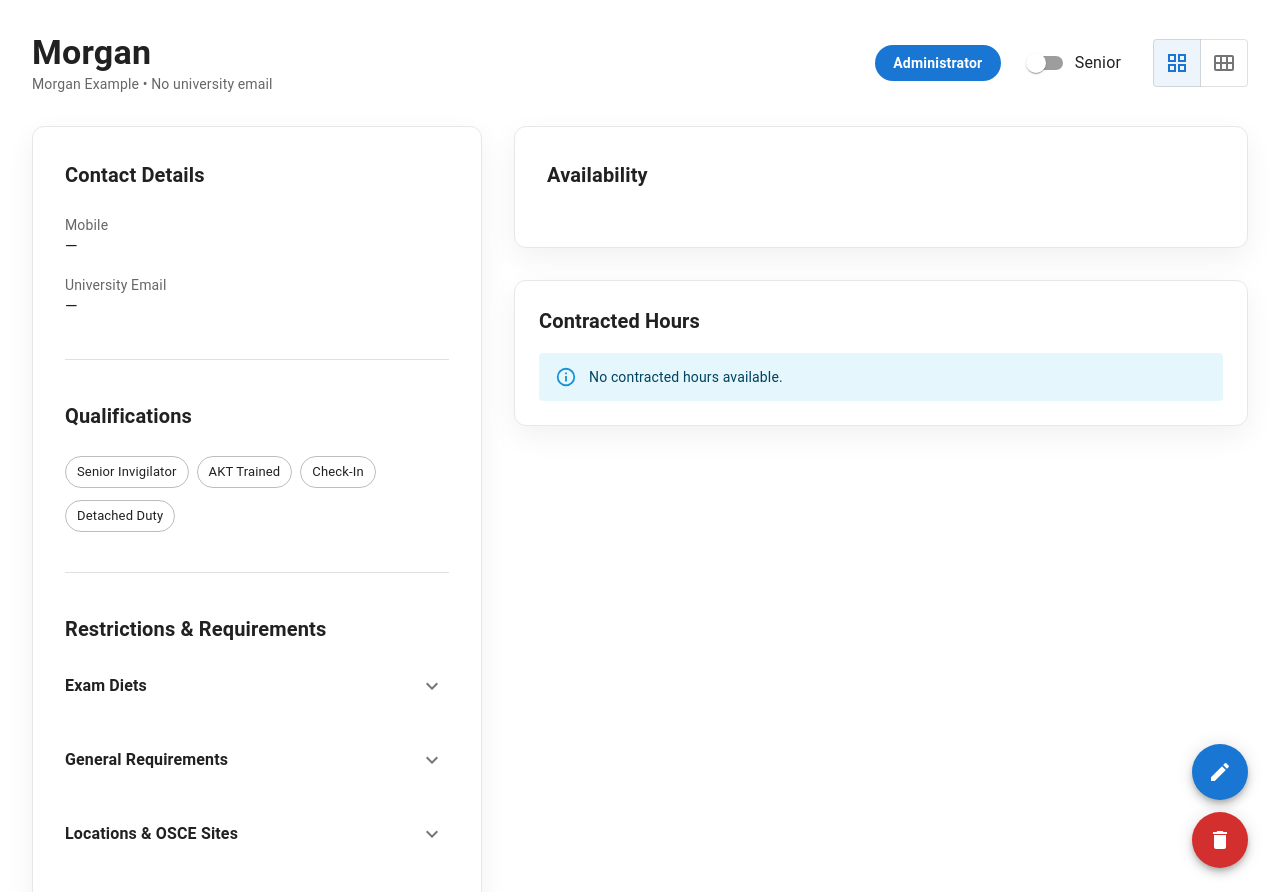
Test: AdminInvigilatorProfile › shows senior admin promotion dialog for senior admins
The image size is (1280, 892).
Click the switch labelled "Senior": click(1073, 63) [1026,53,1121,73]
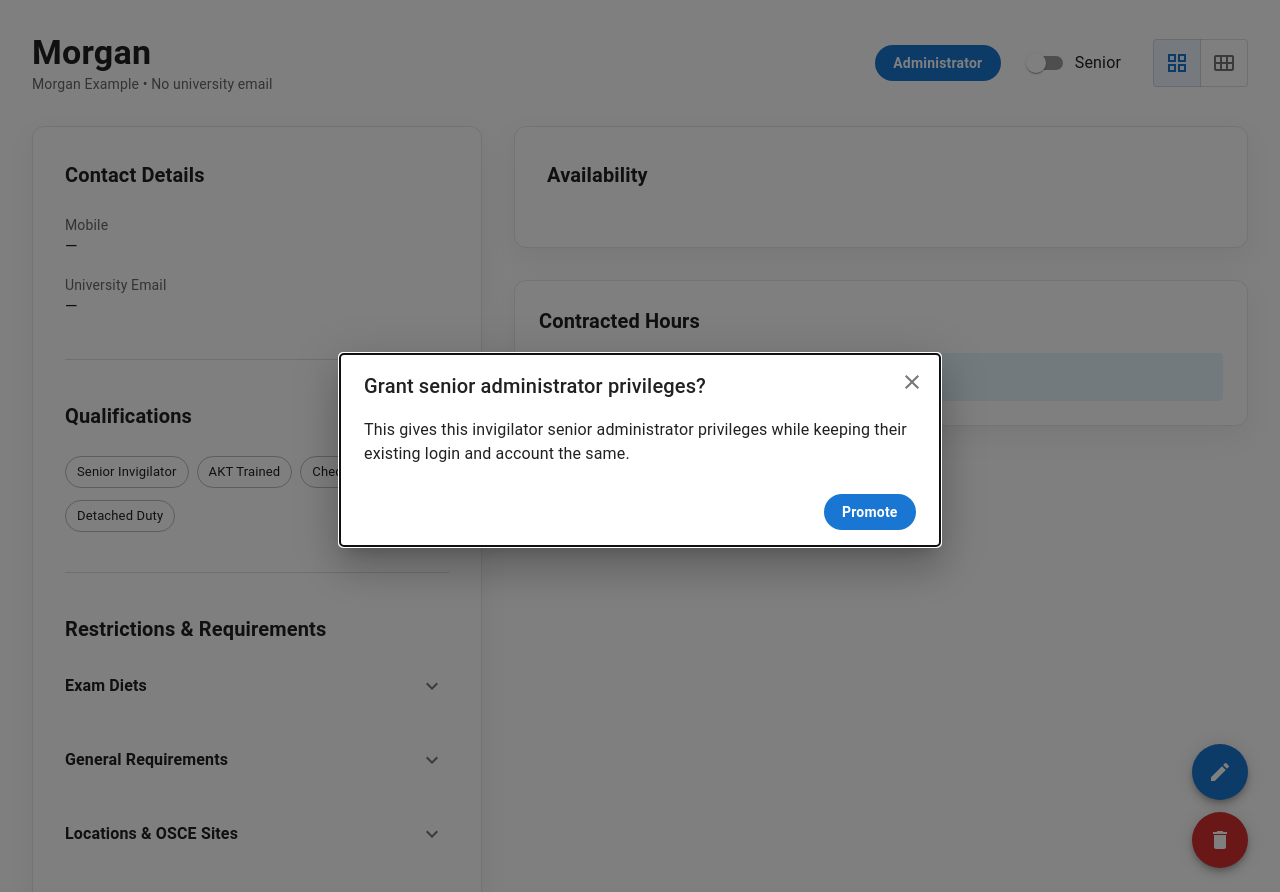
Now the heading "Grant senior administrator privileges?" is shown, box [340,354,940,418]
